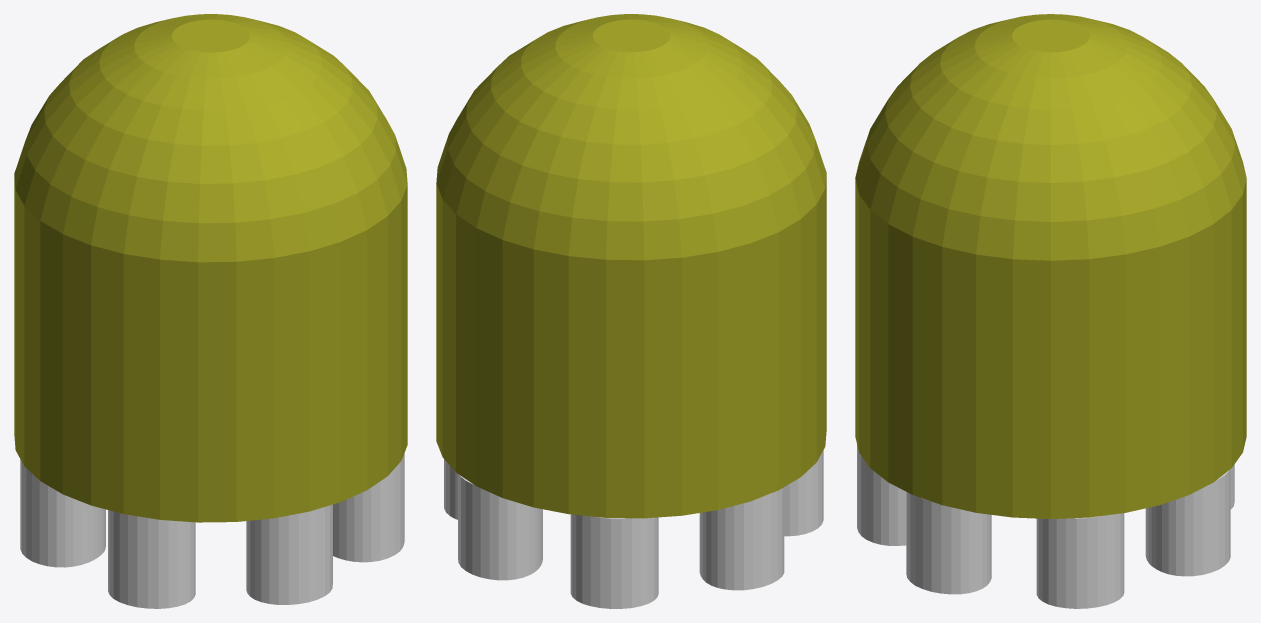
File: ghost.glb
The picture shows the model from 3 angles, left to right: view 1: azimuth 30°, elevation 25°; view 2: azimuth 150°, elevation 25°; view 3: azimuth 270°, elevation 25°; orthographic projection.
Visible parts, largest first — view 1: Body, Limb; view 2: Body, Limb; view 3: Body, Limb.
Boxes of the visible parts, <box> form: Body: <box>14,14,407,522</box>; Limb: <box>20,453,404,608</box>; Body: <box>436,14,826,518</box>; Limb: <box>444,450,823,608</box>; Body: <box>855,14,1246,518</box>; Limb: <box>857,445,1234,608</box>.
Bounding box in the file's own units: 1.37 × 1.9 × 1.37.
Materials: 1 (1 with a texture image).
